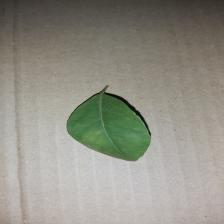greening: (64, 83, 156, 164)
